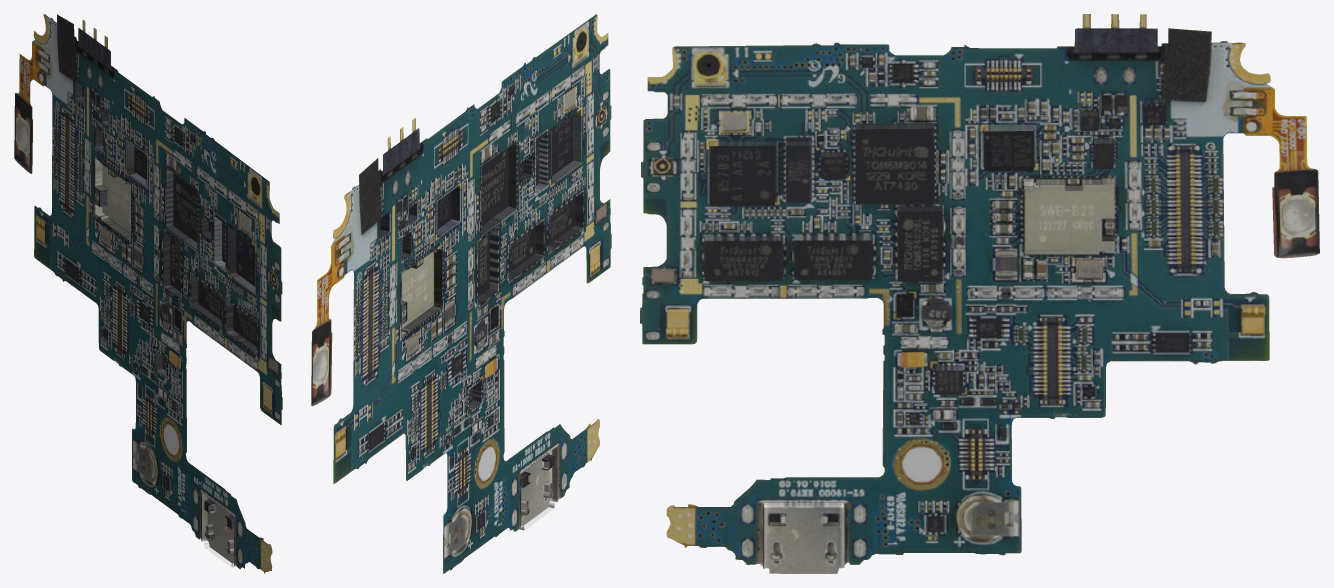
The model's file is cpu.glb.
The picture shows the model from 3 angles, left to right: view 1: azimuth 30°, elevation 25°; view 2: azimuth 150°, elevation 25°; view 3: azimuth 270°, elevation 25°; orthographic projection. The views are drawn at different scales.
Visible parts, largest first — view 1: cpu; view 2: cpu; view 3: cpu.
Boxes of the visible parts, x1,y1,x2,y2 form: cpu: (14,14,282,573); cpu: (311,14,611,573); cpu: (640,14,1319,573).
Size of the model in its own units: 0.0116 by 0.701 by 0.7756.
1 material, 1 textured.
